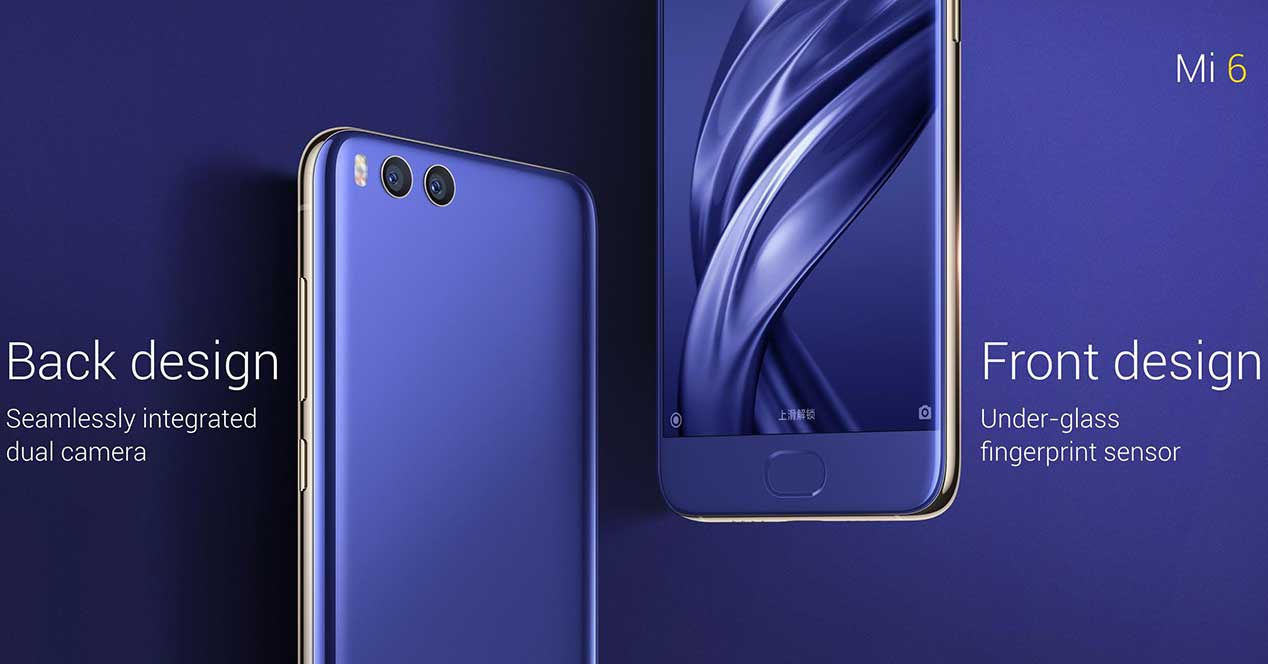smartphone: (298, 127, 598, 664), (657, 1, 960, 522)
